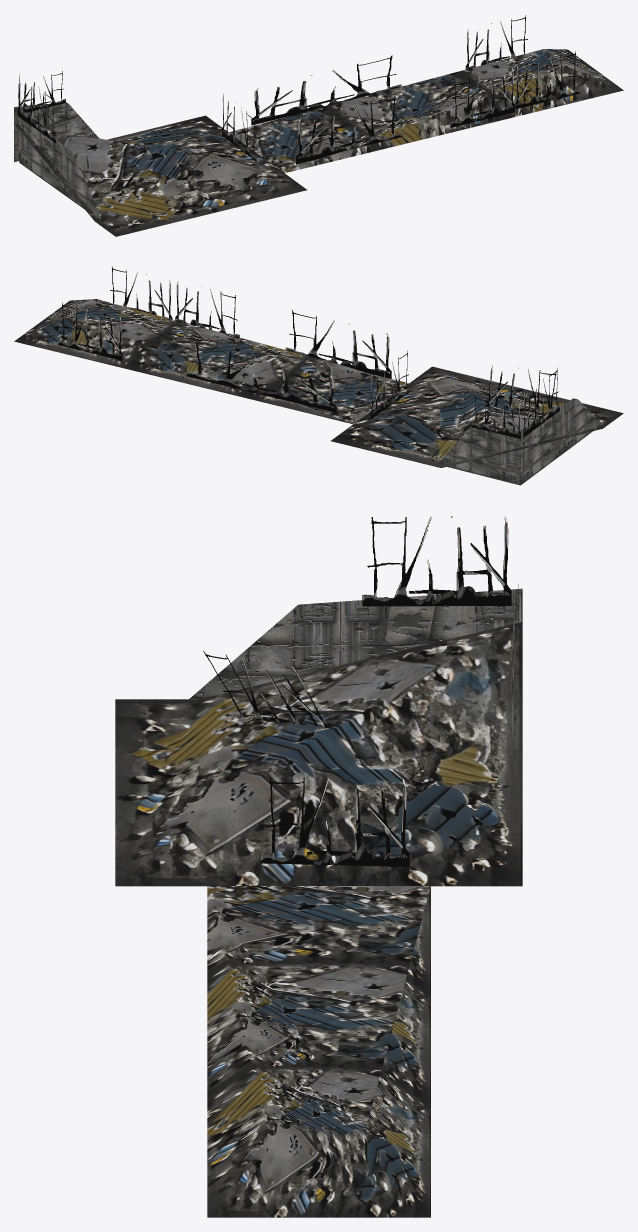
File: s_main_leftwing_dam_hdtex.glb
3 renders of one model, top to bottom at view 1: azimuth 30°, elevation 25°; view 2: azimuth 150°, elevation 25°; view 3: azimuth 270°, elevation 25°, orthographic. The views are drawn at different scales.
Parts seen in each view (by area): view 1: S_HC_LeftwingA; view 2: S_HC_LeftwingA; view 3: S_HC_LeftwingA.
Boxes of the visible parts, <box> form: S_HC_LeftwingA: <box>14,15,623,236</box>; S_HC_LeftwingA: <box>14,266,623,485</box>; S_HC_LeftwingA: <box>115,516,522,1217</box>.
Size of the model in its own units: 43.63 by 7.23 by 14.5.
Materials: 3 (3 with a texture image).
